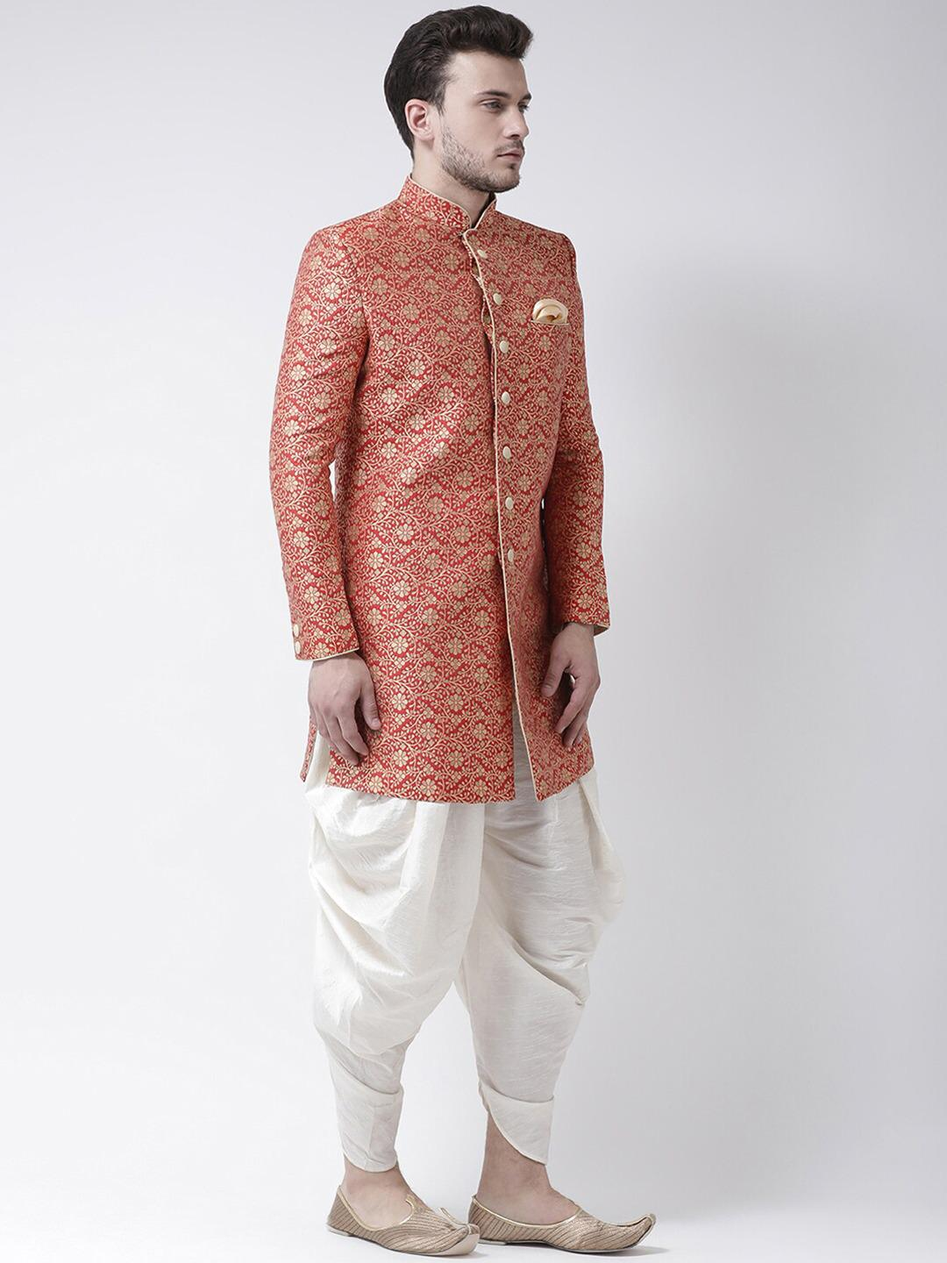Design Sherwani: (265, 174, 609, 812)
